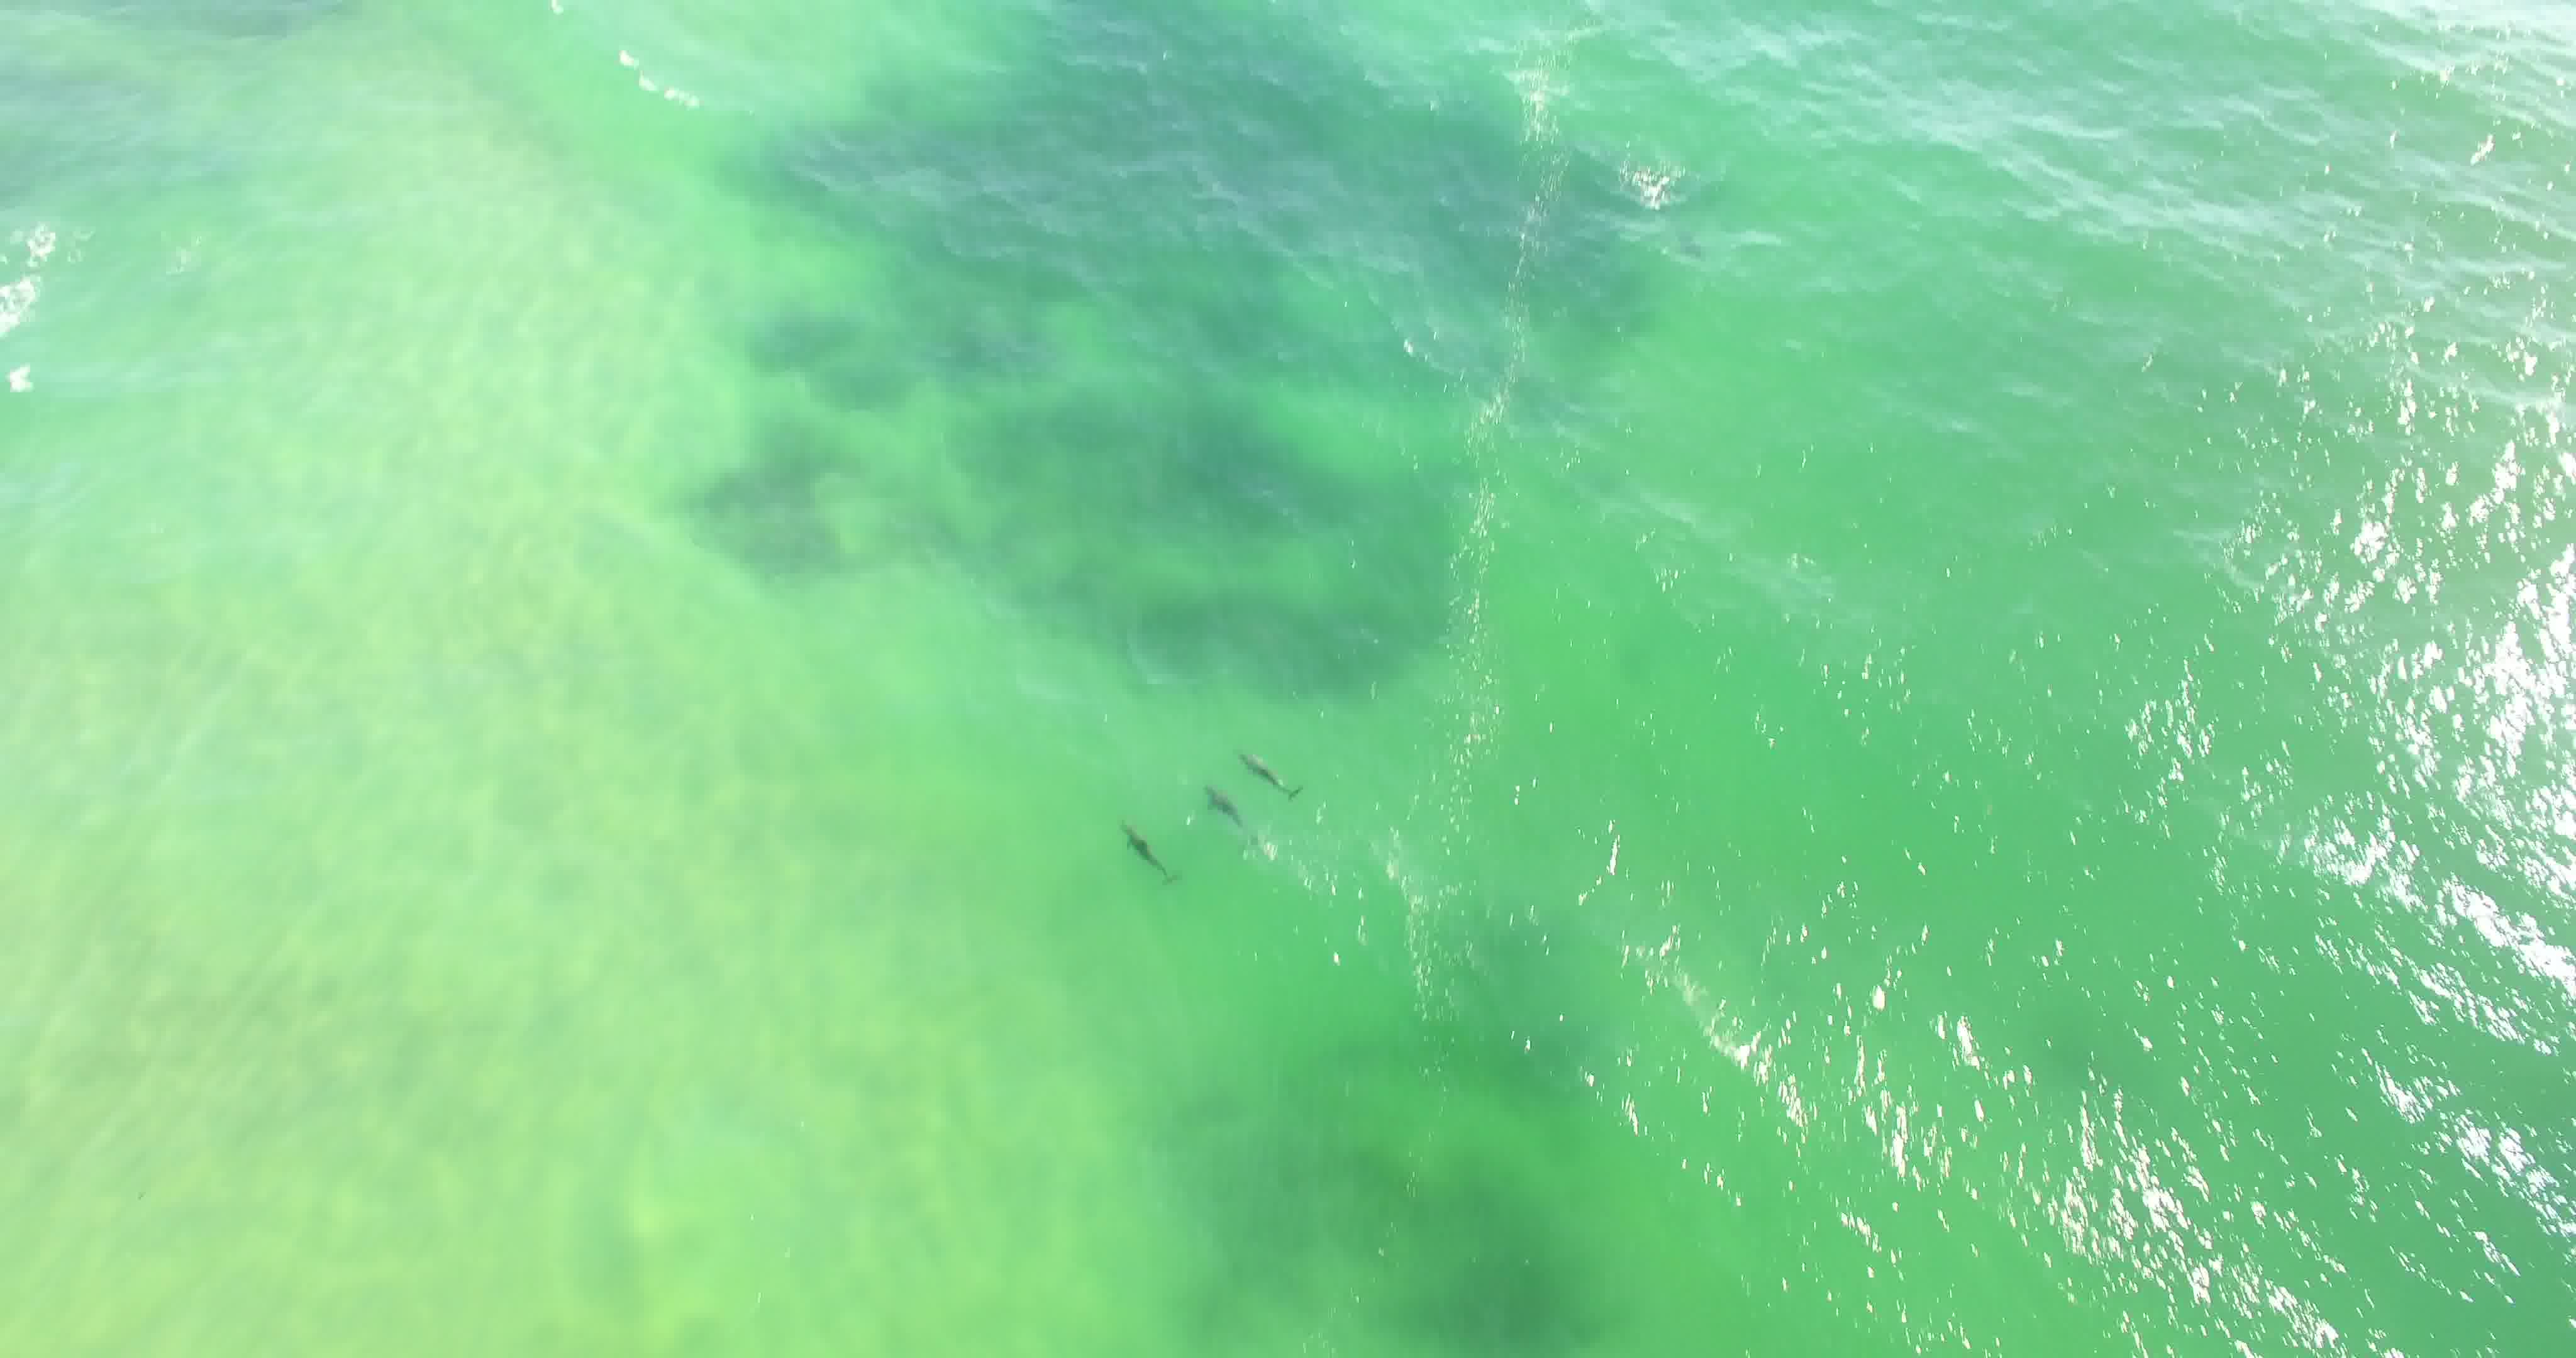dolphin: (1215, 736, 1312, 813), (1102, 811, 1189, 896), (1189, 770, 1274, 849)
